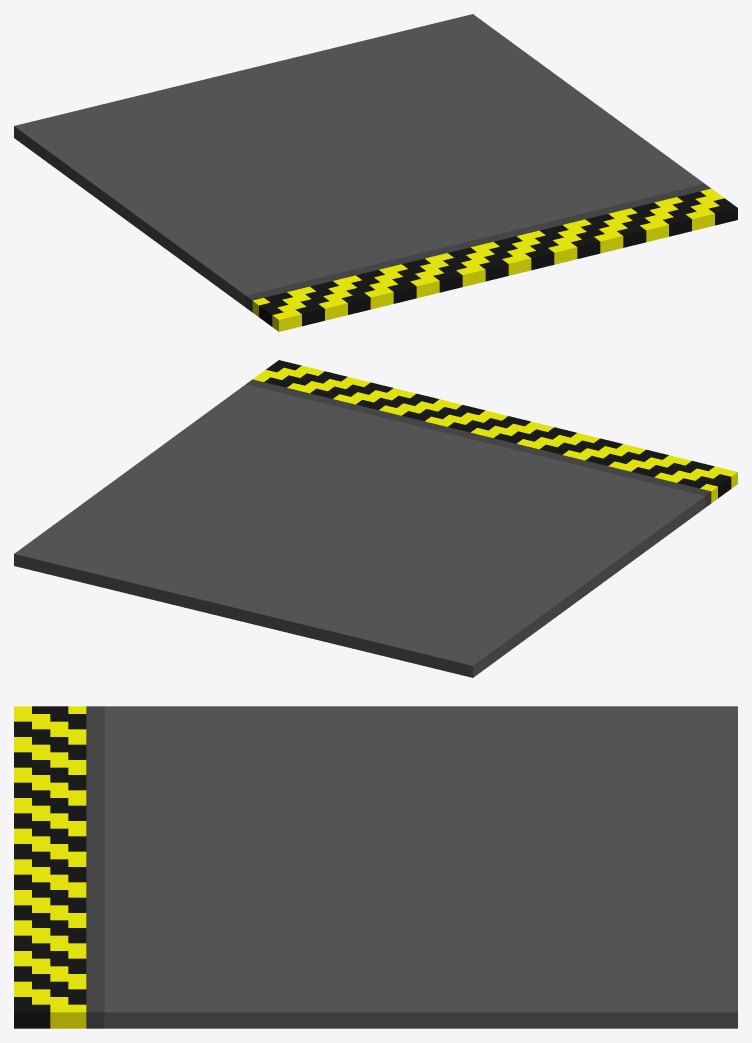
Rendered from Floor_Input_Edge.obj.
3 renders of one model, top to bottom at view 1: azimuth 30°, elevation 25°; view 2: azimuth 150°, elevation 25°; view 3: azimuth 270°, elevation 25°, orthographic. The views are drawn at different scales.
Parts seen in each view (by area): view 1: Floor_Input_Edge; view 2: Floor_Input_Edge; view 3: Floor_Input_Edge.
Part boxes in pixels (x1,y1,x2,y2): Floor_Input_Edge: (14,14,737,331); Floor_Input_Edge: (14,360,737,677); Floor_Input_Edge: (14,706,737,1028).
Size of the model in its own units: 40 by 1 by 40.
Materials: 1 (1 with a texture image).
